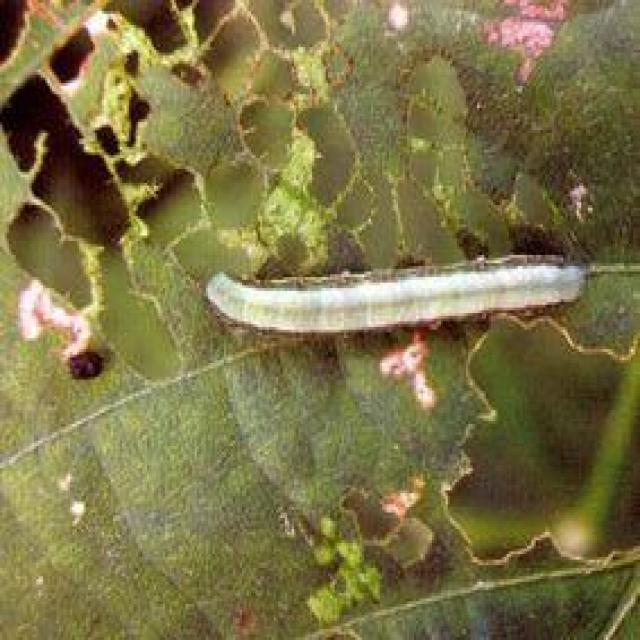BeetArmyWorm-Larva-: (193, 249, 598, 334)
